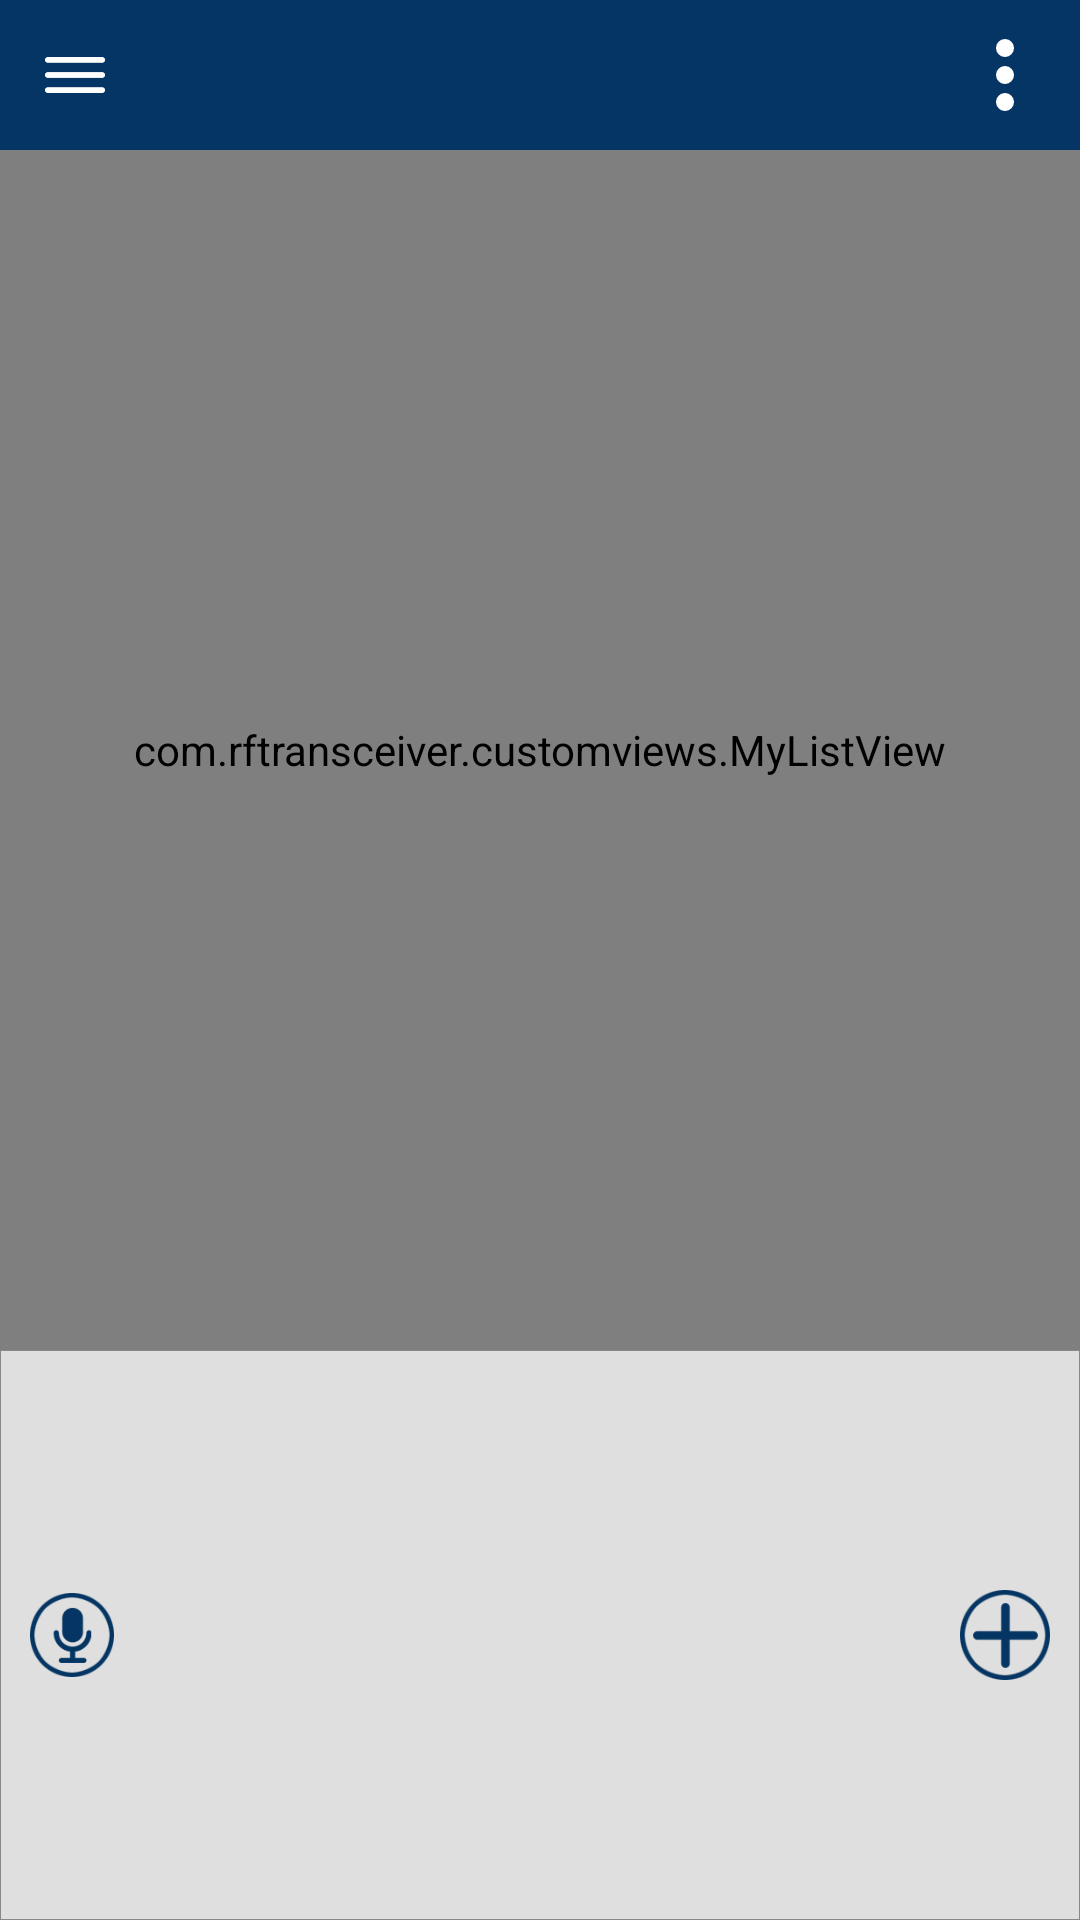

Icon bounding boxes for this 1080 x 1920 phone screenshot, format bbox=(x1, y1, x2, y2):
drawble sounds text: bbox=(30, 1593, 114, 1677)
top menu hide: bbox=(996, 39, 1014, 111)
